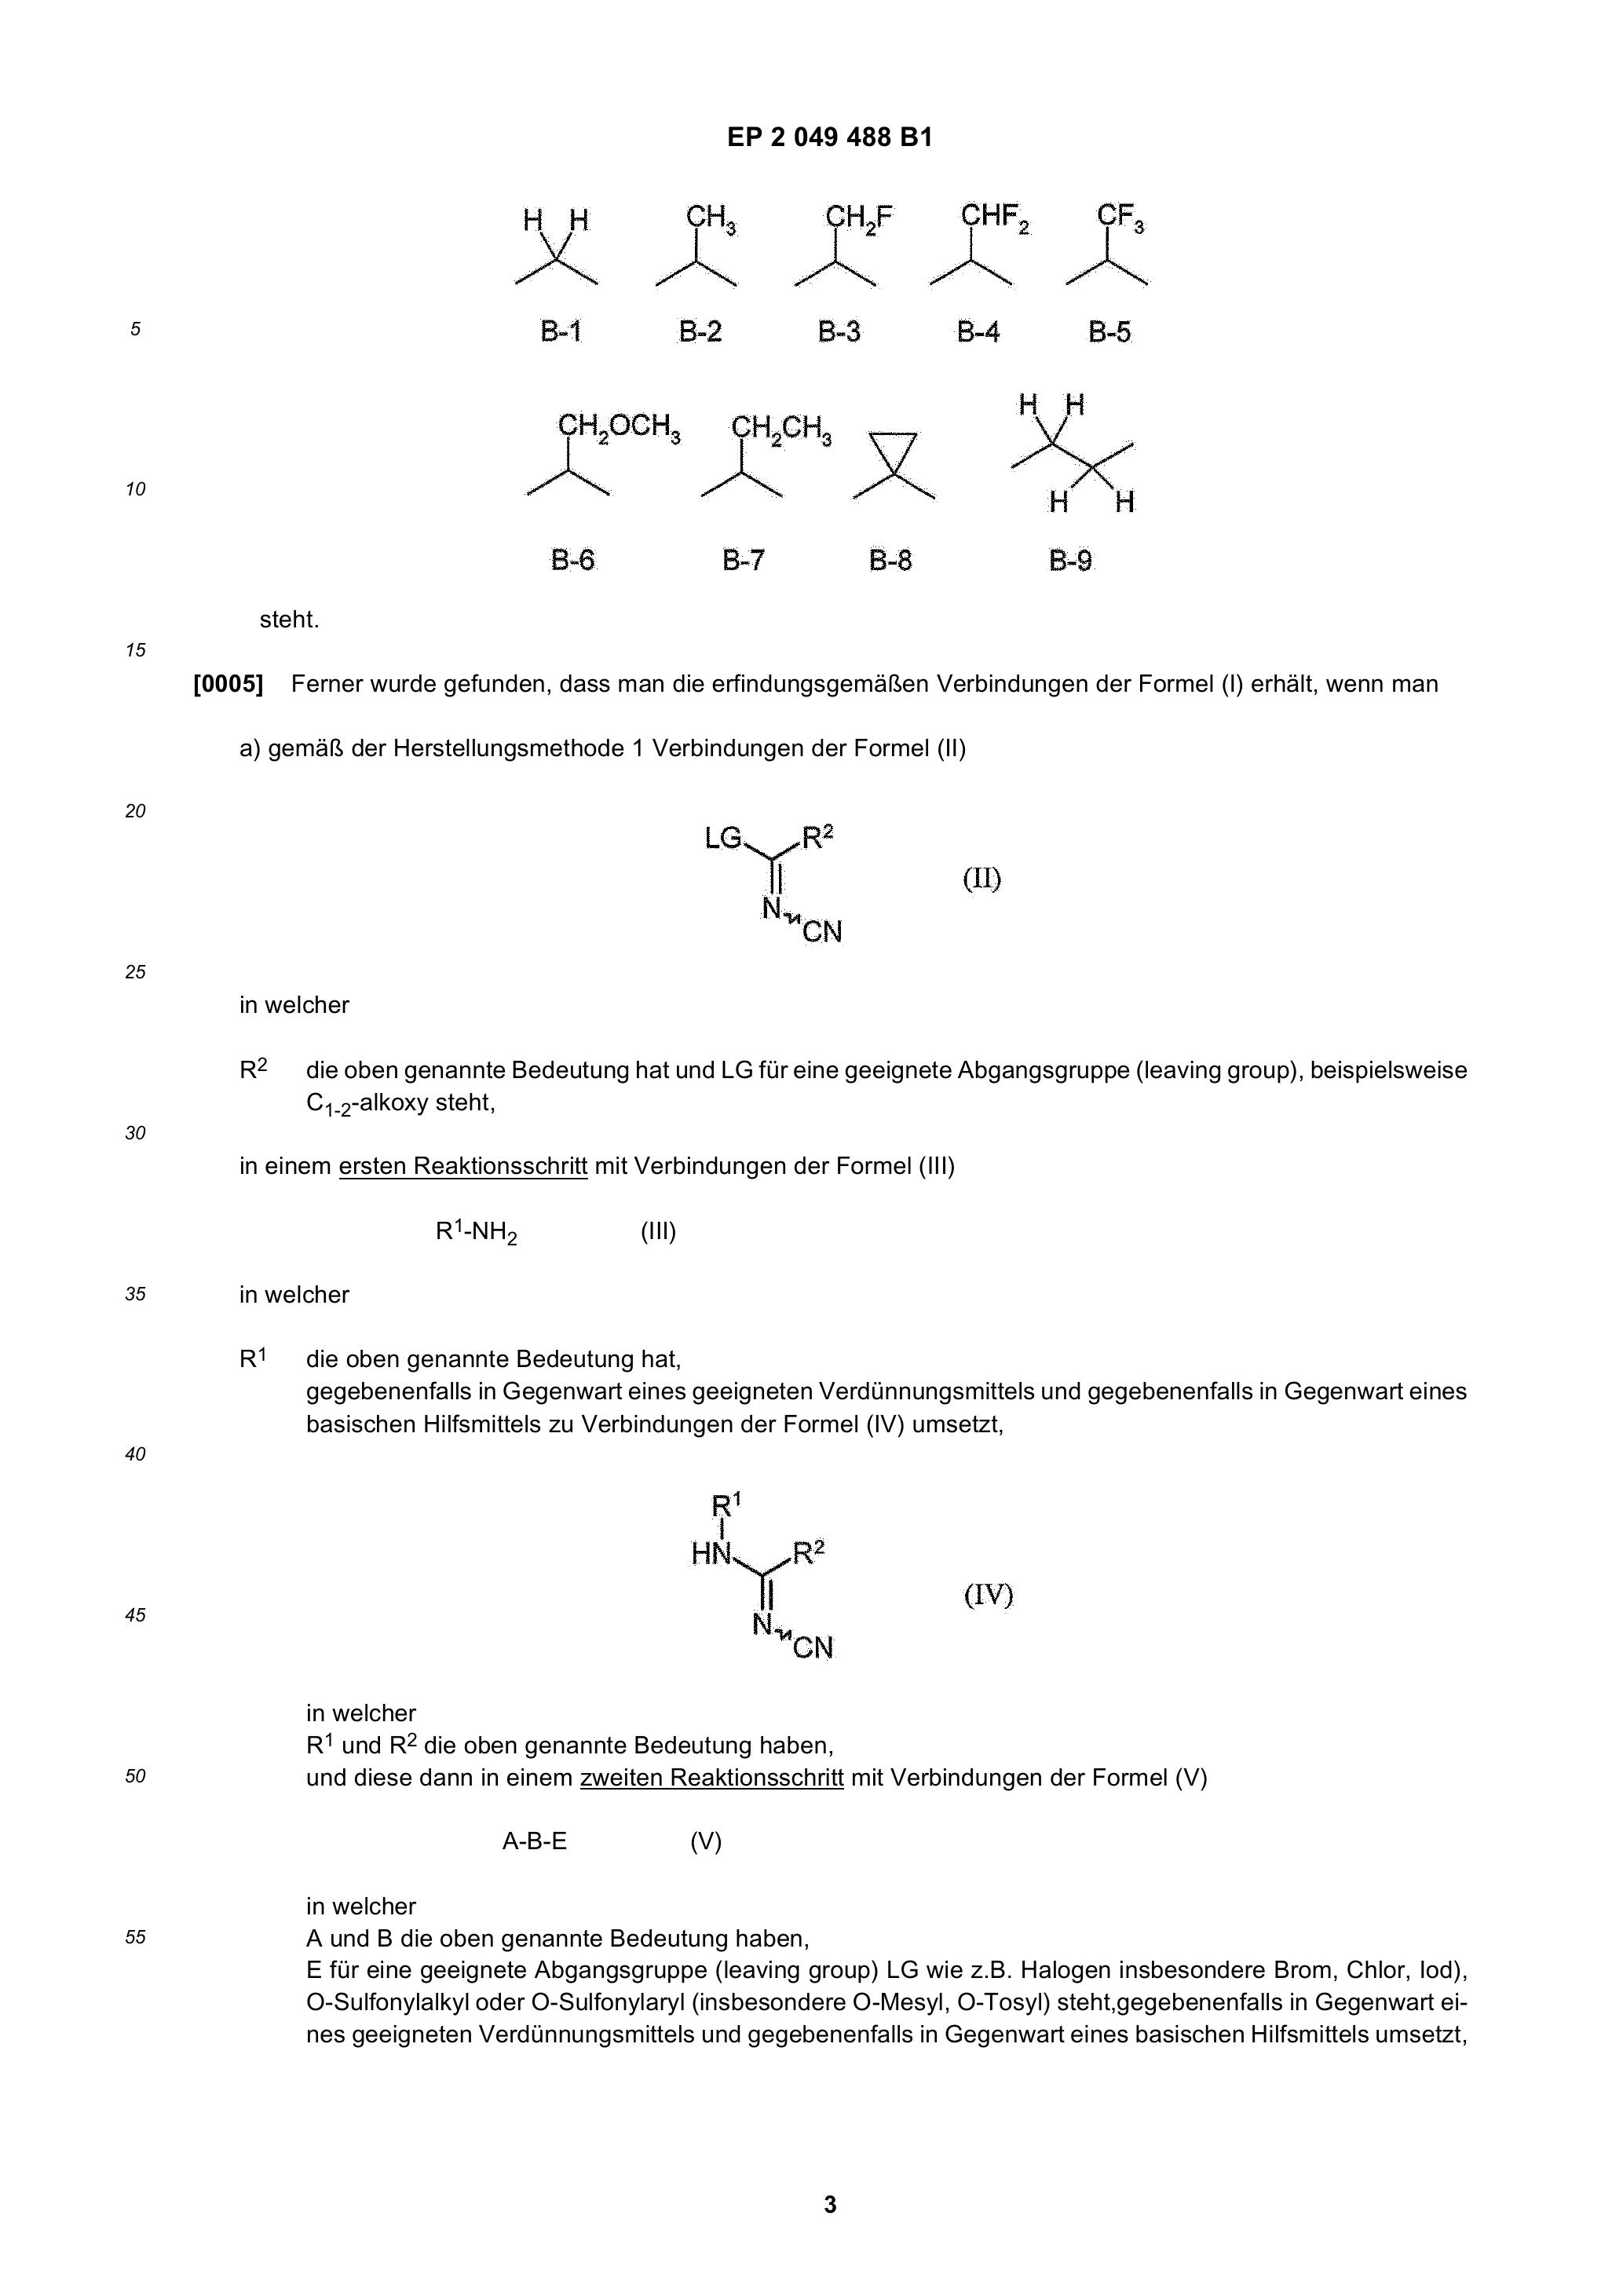intermediates: (513, 386, 682, 523), (697, 390, 834, 515), (511, 183, 617, 311), (797, 183, 894, 304), (929, 184, 1029, 297), (652, 188, 748, 297), (1071, 188, 1147, 300)
markush-structures: (638, 1449, 864, 1681), (692, 778, 855, 970), (996, 376, 1154, 520)
